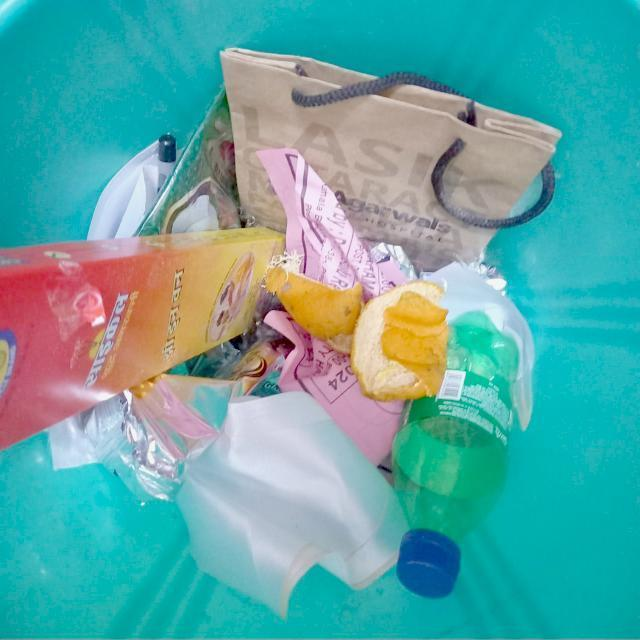Garbage: (0, 49, 559, 615)
Nylog_sting: (431, 139, 556, 229), (291, 72, 466, 108)
Plastic: (176, 392, 408, 616), (48, 375, 242, 499), (423, 262, 534, 428)
Plastic_bottle: (392, 310, 520, 598)
Plastic_wraper: (137, 89, 241, 235)
